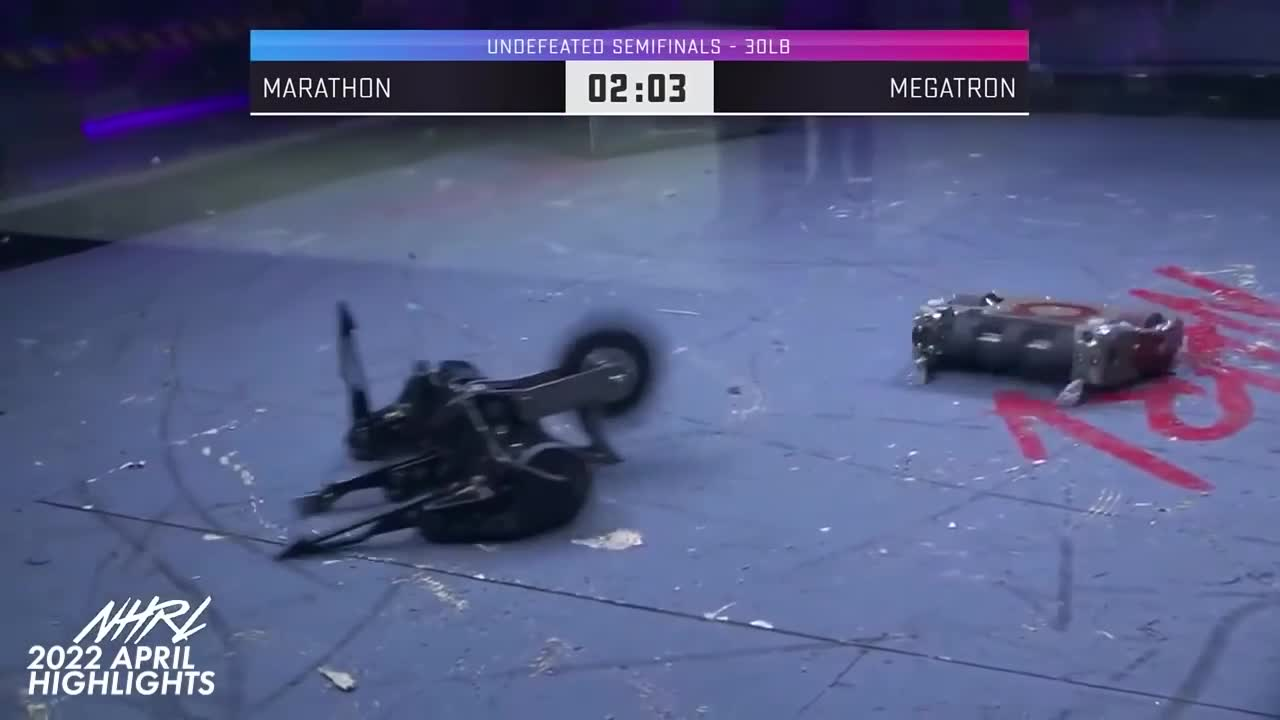combatbot: (340, 339, 630, 547), (906, 289, 1184, 407)
